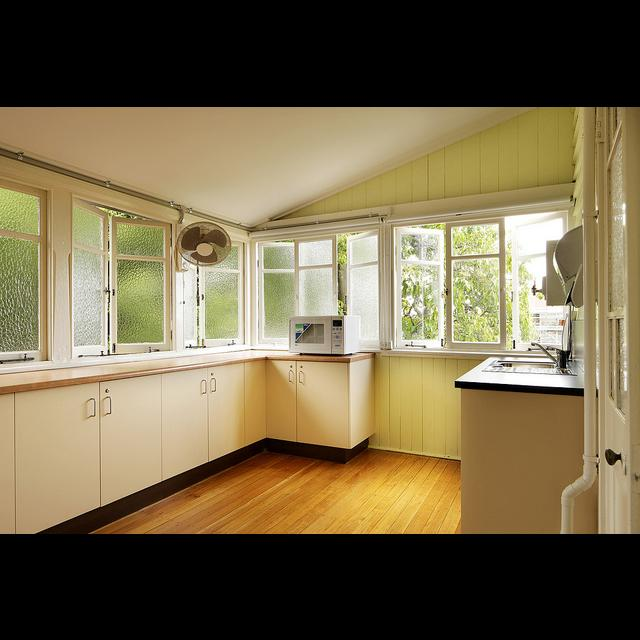Microwave: (289, 315, 361, 353)
